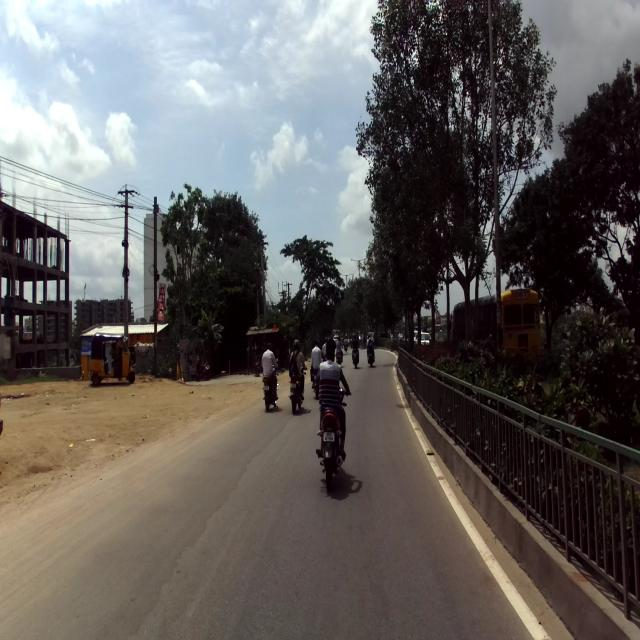motorcycle_Hero: (315, 382, 351, 494)
